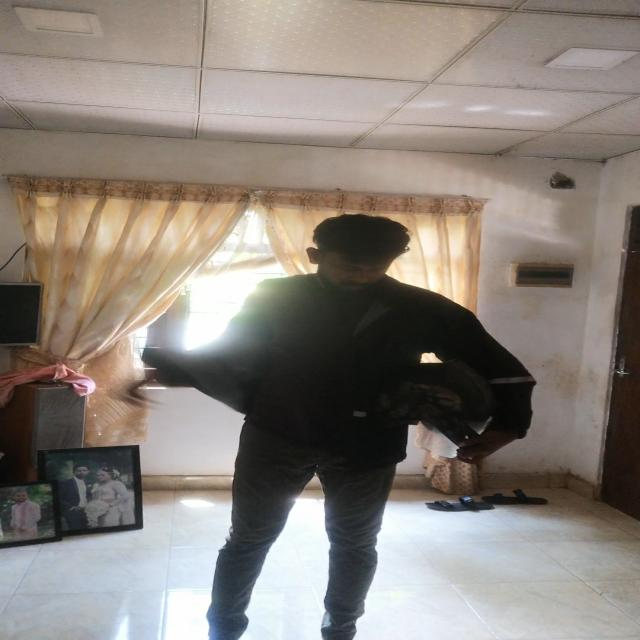Jacket_Wearer: (196, 273, 536, 475)
Person: (195, 206, 517, 640)
